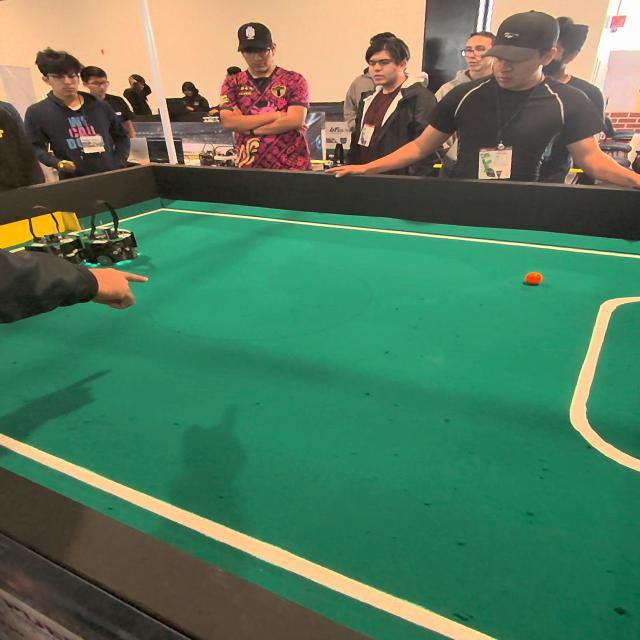Robot: (84, 198, 146, 274), (16, 200, 78, 261)
pelota: (515, 268, 550, 292)
